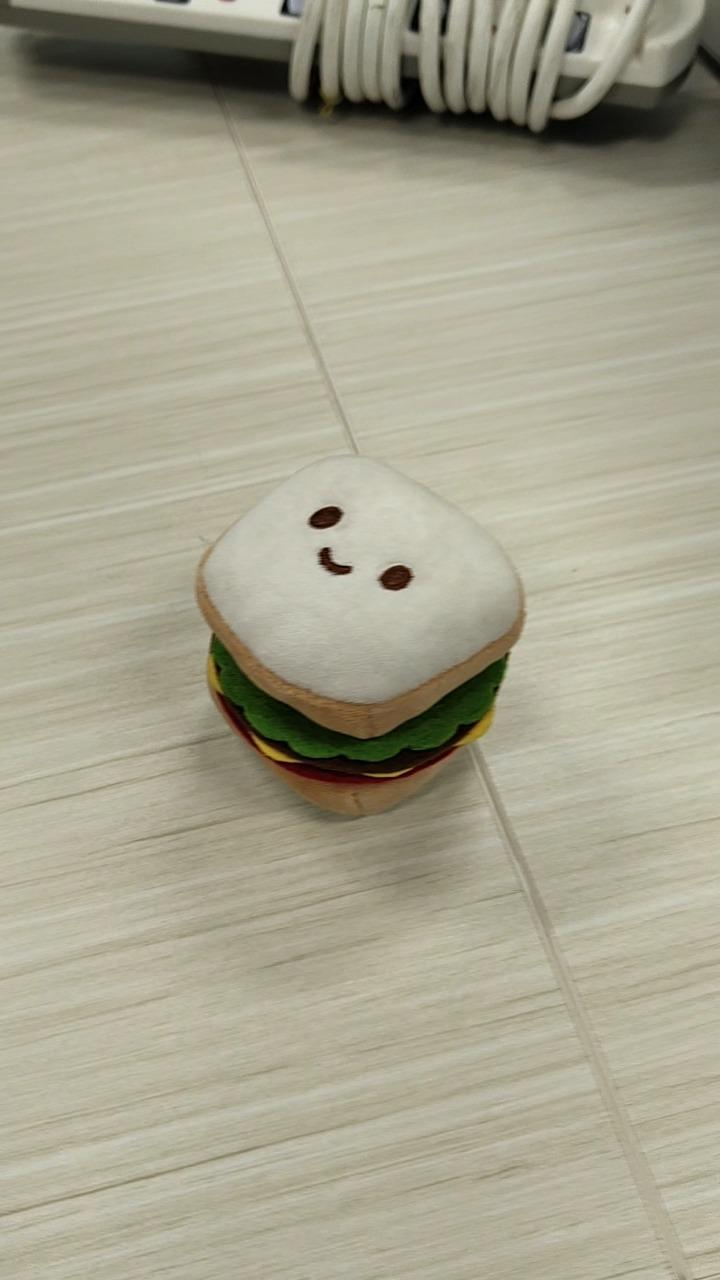objects: (194, 451, 526, 818)
